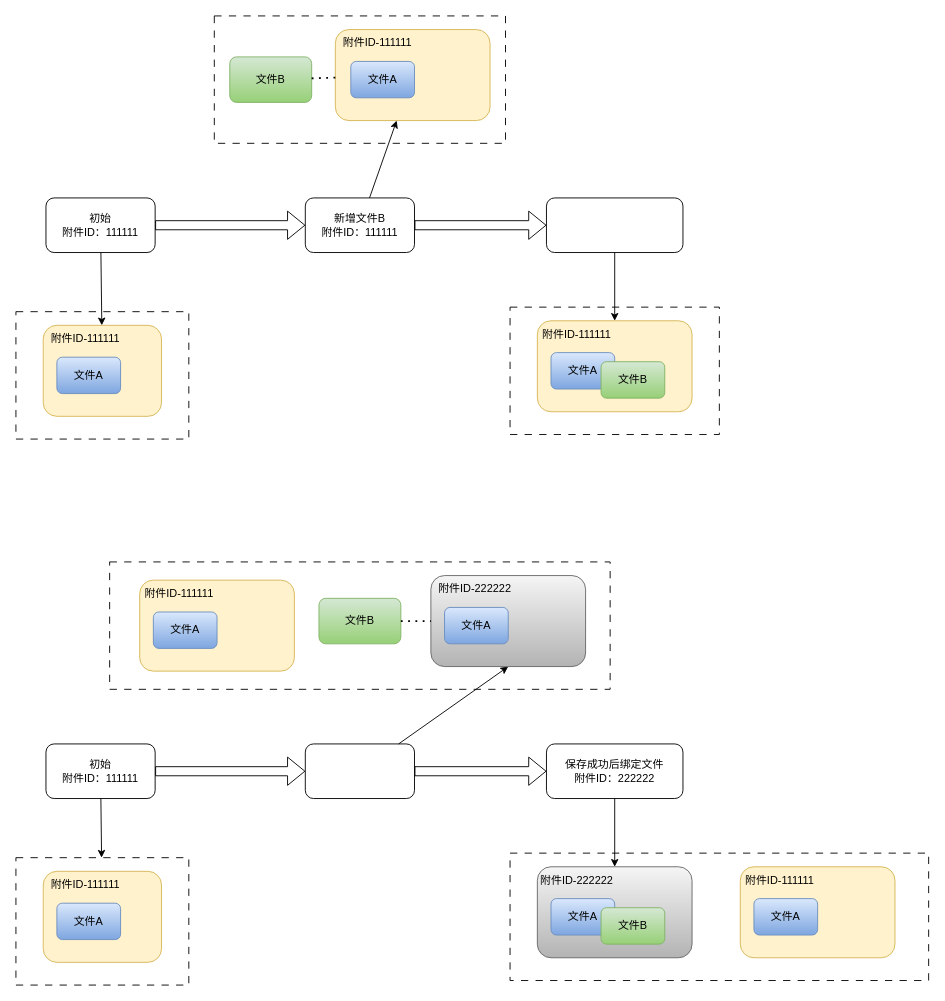
Image size: 945x1001. Some labels were removed from this diagram. The box of each missing label's shape, as (x1, y1, x2, y2) in pixels:
保存成功后绑定文件 附件ID：111111: (546, 197, 683, 253)
新增文件B 触发附件变动 附件ID：222222: (304, 743, 415, 799)
